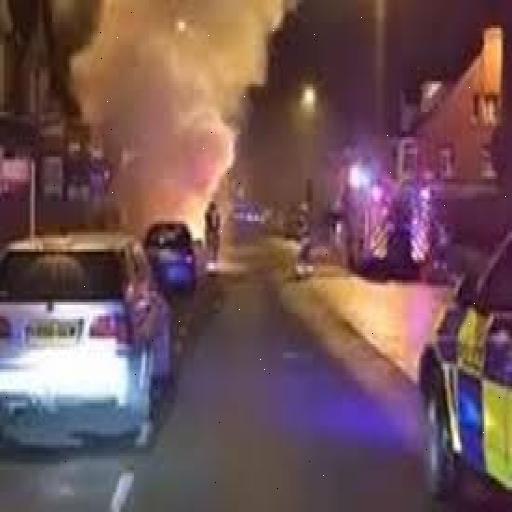smoke: (69, 3, 268, 224)
